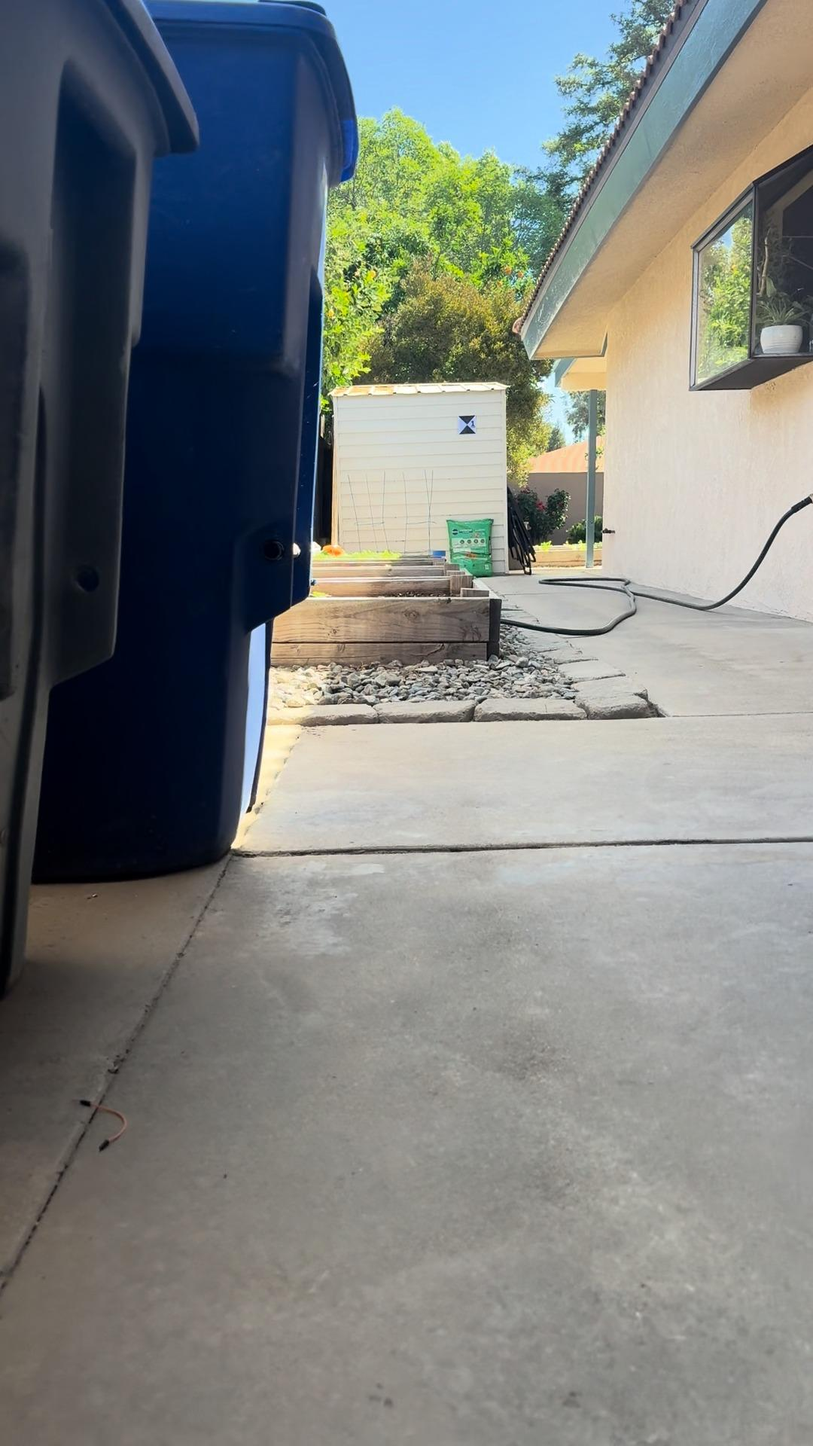target1: (455, 414, 478, 436)
